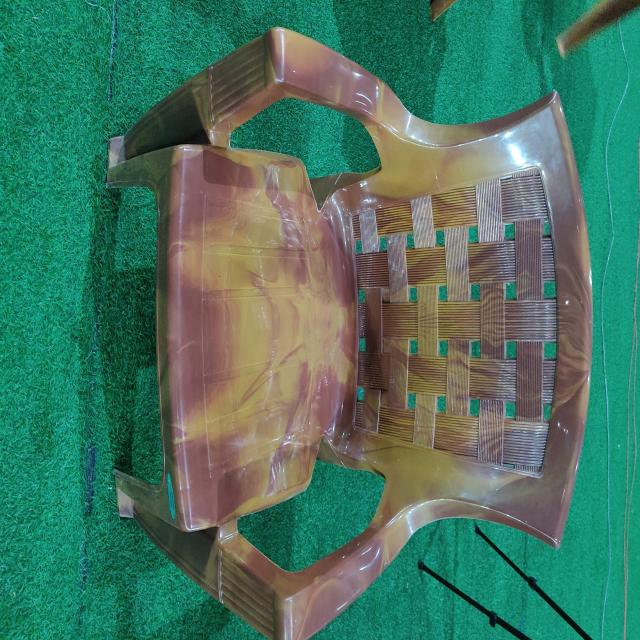Chair: (106, 26, 593, 638)
